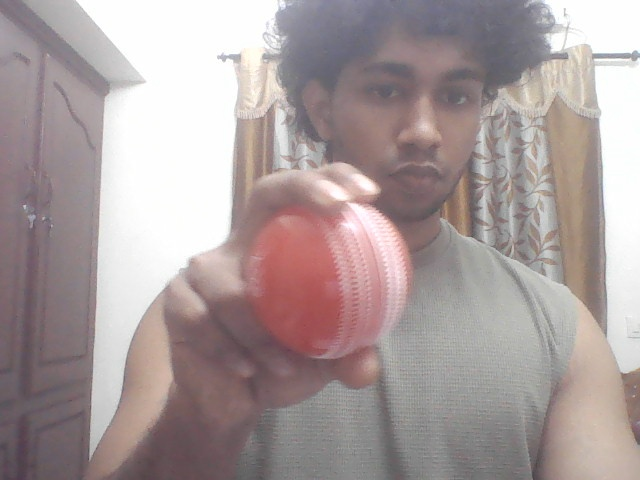cricket_ball: (235, 195, 415, 367)
